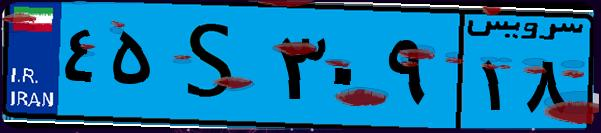0: (330, 28, 385, 110)
1: (475, 38, 525, 113)
3: (270, 28, 330, 110)
4: (57, 26, 110, 100)
5: (110, 28, 158, 98)
8: (525, 38, 570, 115)
9: (385, 28, 445, 110)
S: (158, 12, 270, 120)
